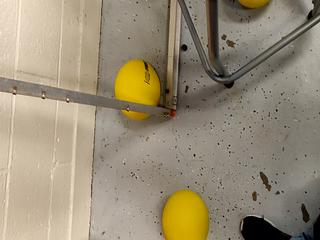power_cell: (111, 50, 164, 118), (158, 172, 211, 240), (224, 1, 284, 11)
